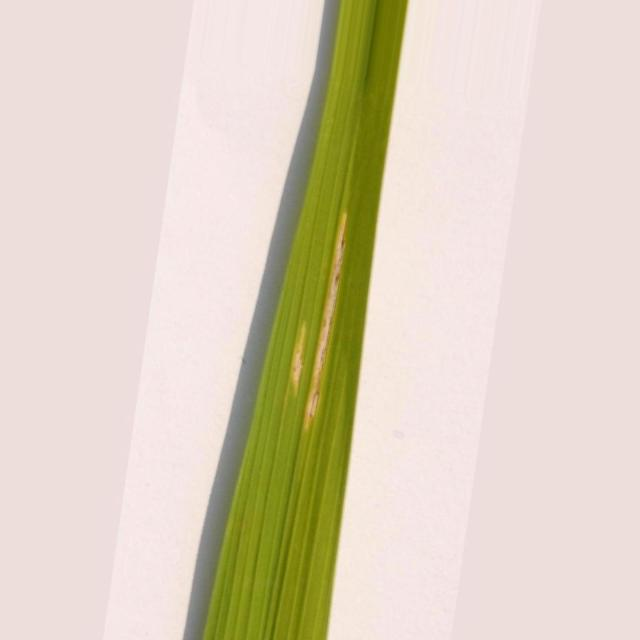Bacterial_Leaf_Blight: (305, 328, 329, 429), (329, 212, 348, 292), (290, 322, 306, 394), (325, 305, 334, 324)
